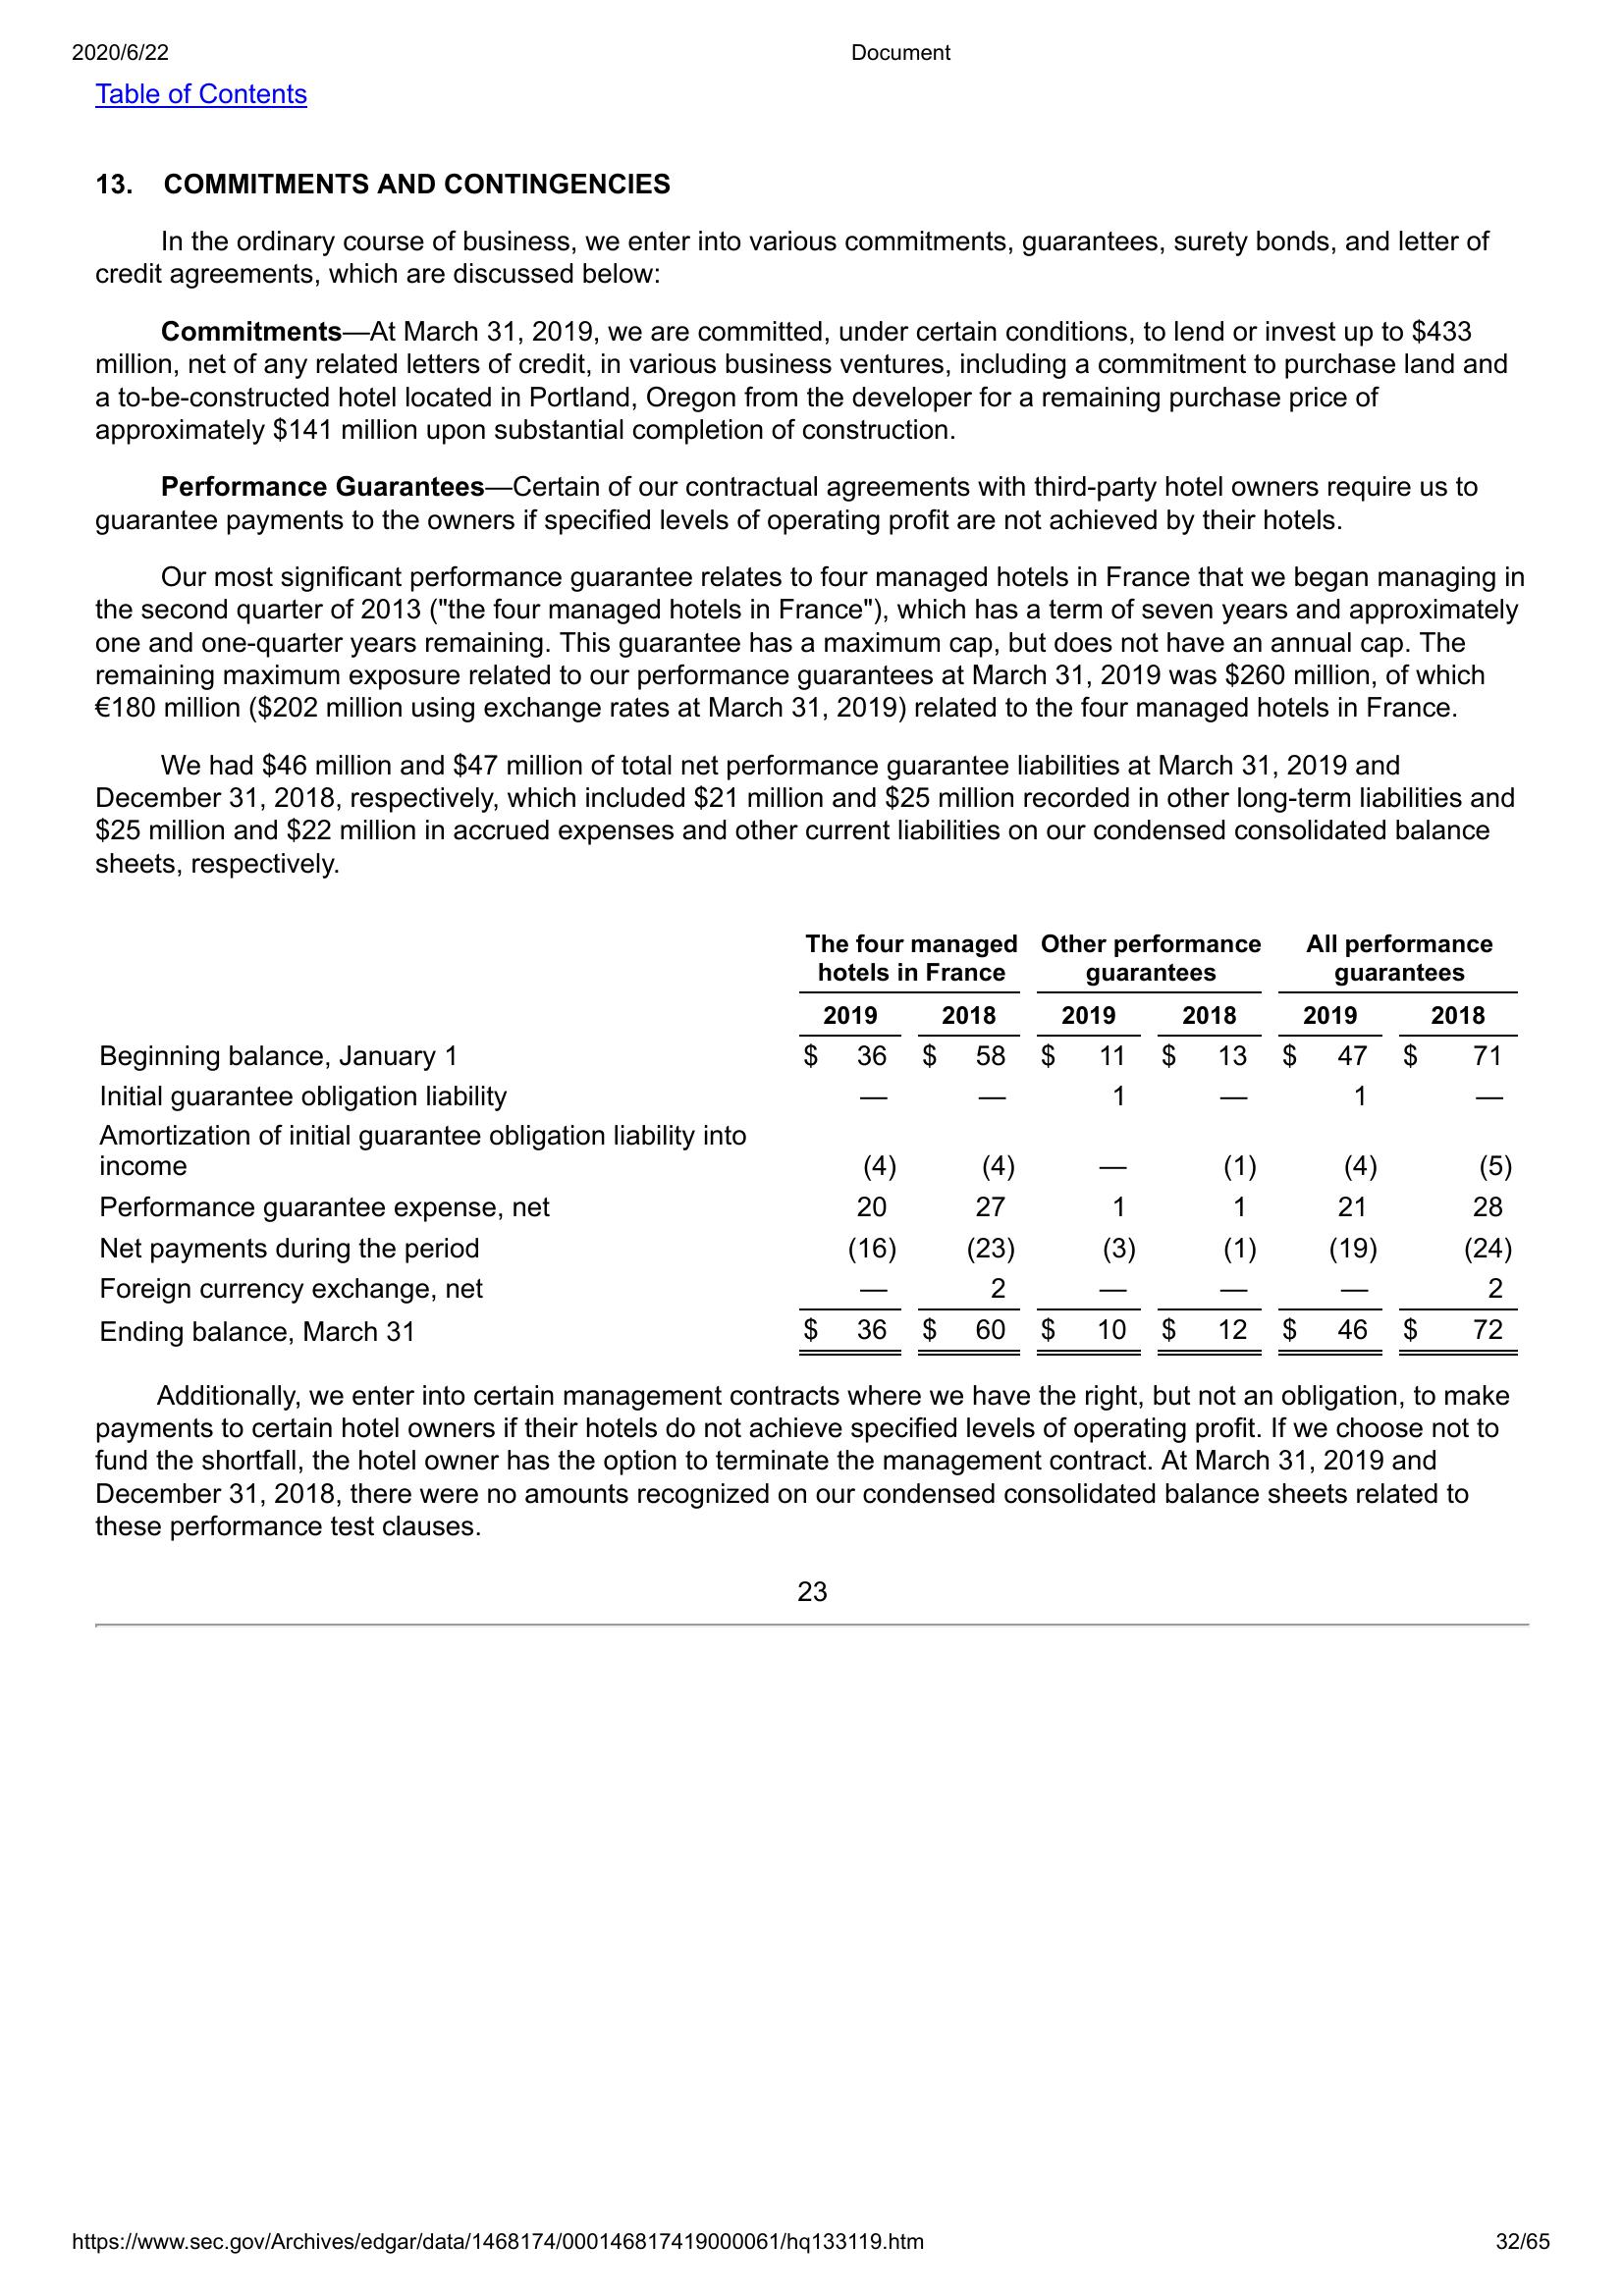table: (91, 923, 1526, 1366)
